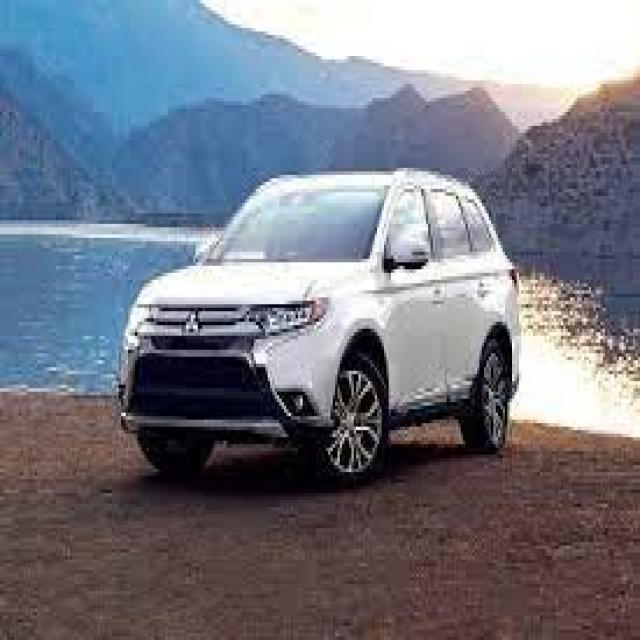light_vehicle: (116, 168, 524, 486)
